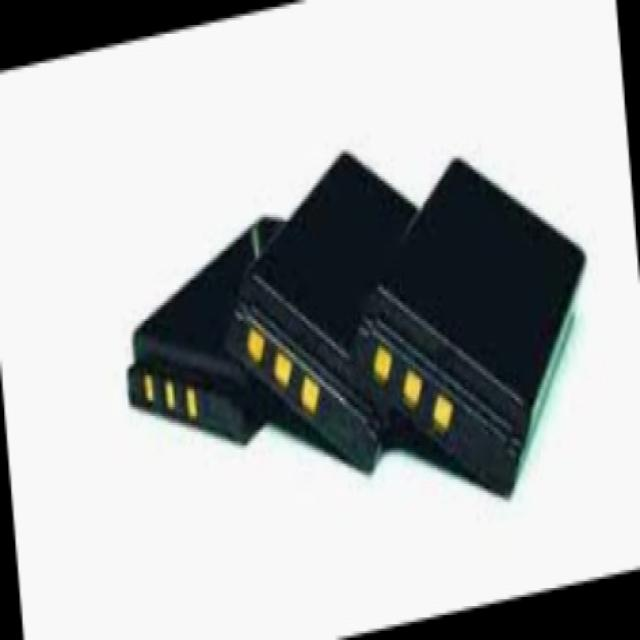elektronik: (357, 163, 584, 499), (230, 154, 422, 469), (128, 214, 284, 446)
